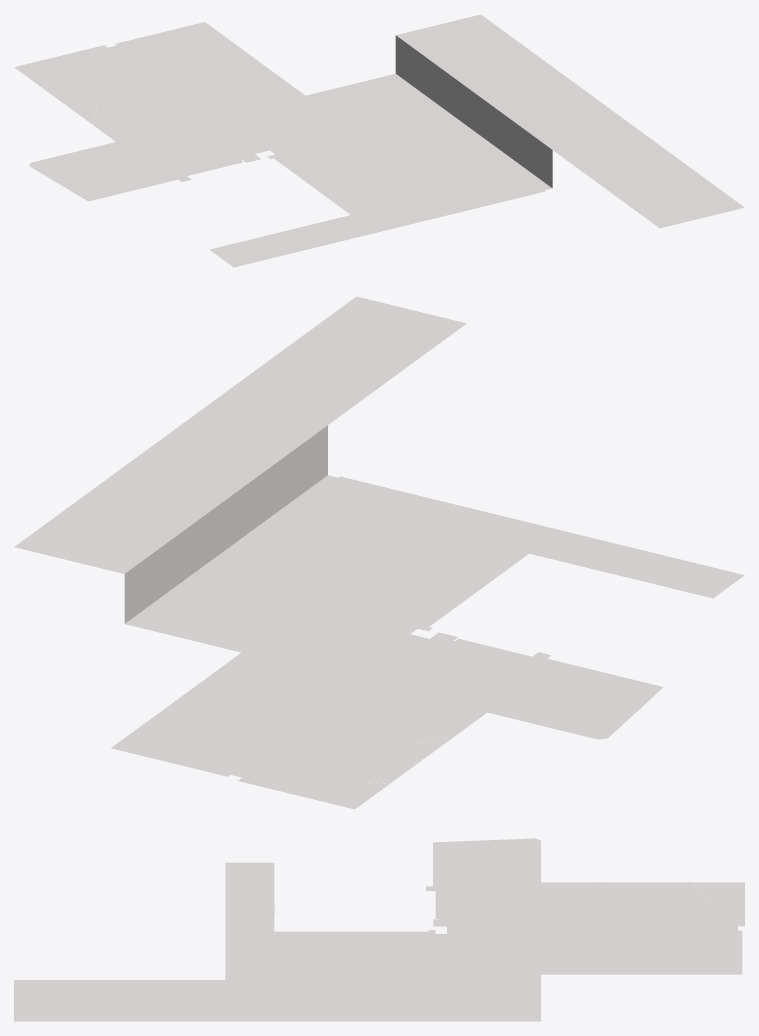
File: SW_corridor__R_lobby_R_Aula_ceiling.FBX
The picture shows the model from 3 angles, top to bottom: view 1: azimuth 30°, elevation 25°; view 2: azimuth 150°, elevation 25°; view 3: azimuth 270°, elevation 25°; orthographic projection. The views are drawn at different scales.
Visible parts, largest first — view 1: SW_corridor__R_lobby_R_Aula_ceiling; view 2: SW_corridor__R_lobby_R_Aula_ceiling; view 3: SW_corridor__R_lobby_R_Aula_ceiling.
Part boxes in pixels (x1=…): SW_corridor__R_lobby_R_Aula_ceiling: x1=14, y1=14, x2=744, y2=267; SW_corridor__R_lobby_R_Aula_ceiling: x1=14, y1=296, x2=744, y2=809; SW_corridor__R_lobby_R_Aula_ceiling: x1=14, y1=838, x2=744, y2=1021.
Bounding box in the file's own units: 3031 × 4225 × 245.
